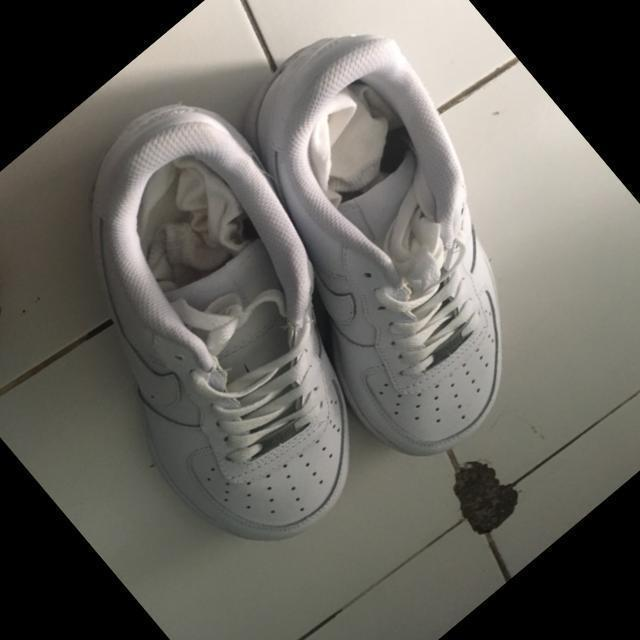nike fake air force: (0, 69, 469, 590), (143, 0, 622, 491)
